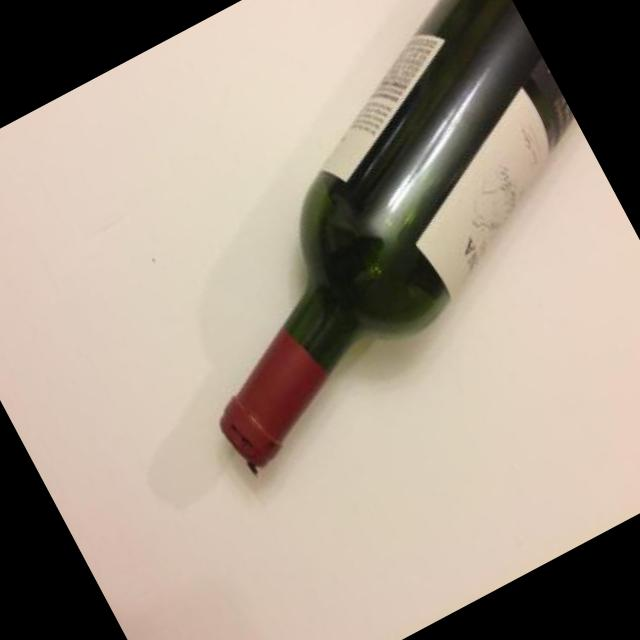BotolKaca: (82, 0, 640, 484)
